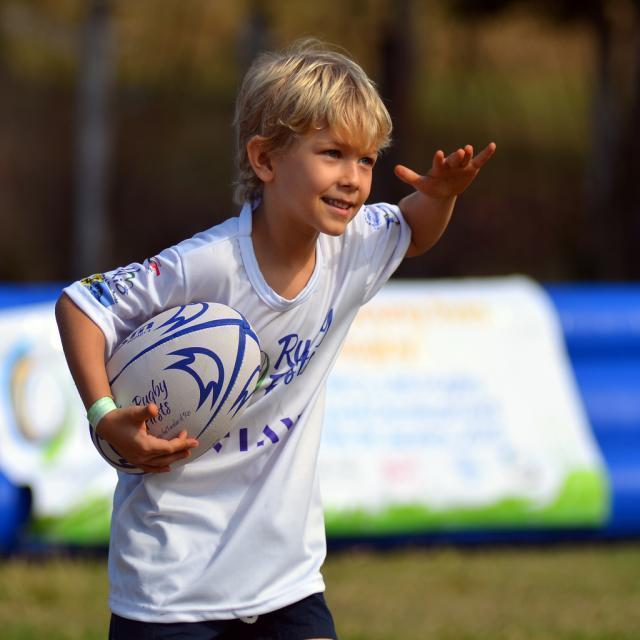ball: (87, 301, 262, 475)
